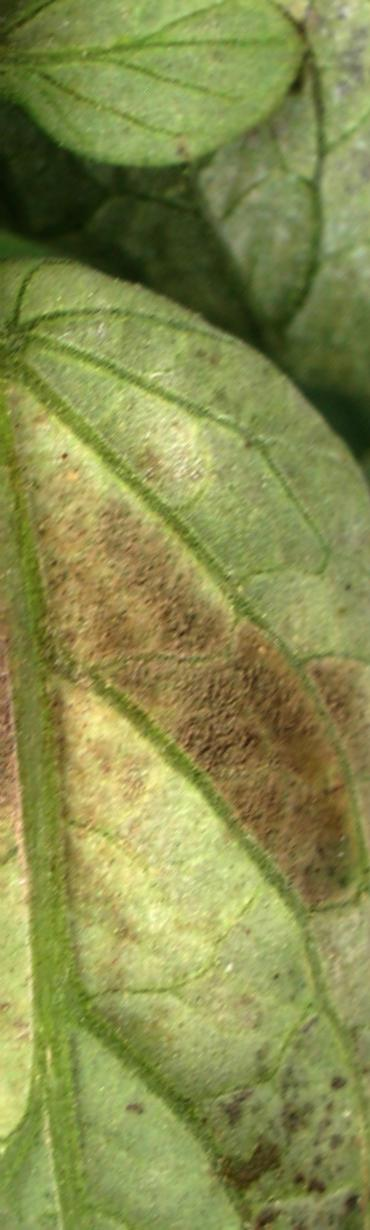Tomato mold leaf: (0, 0, 370, 1230), (58, 0, 370, 538)
